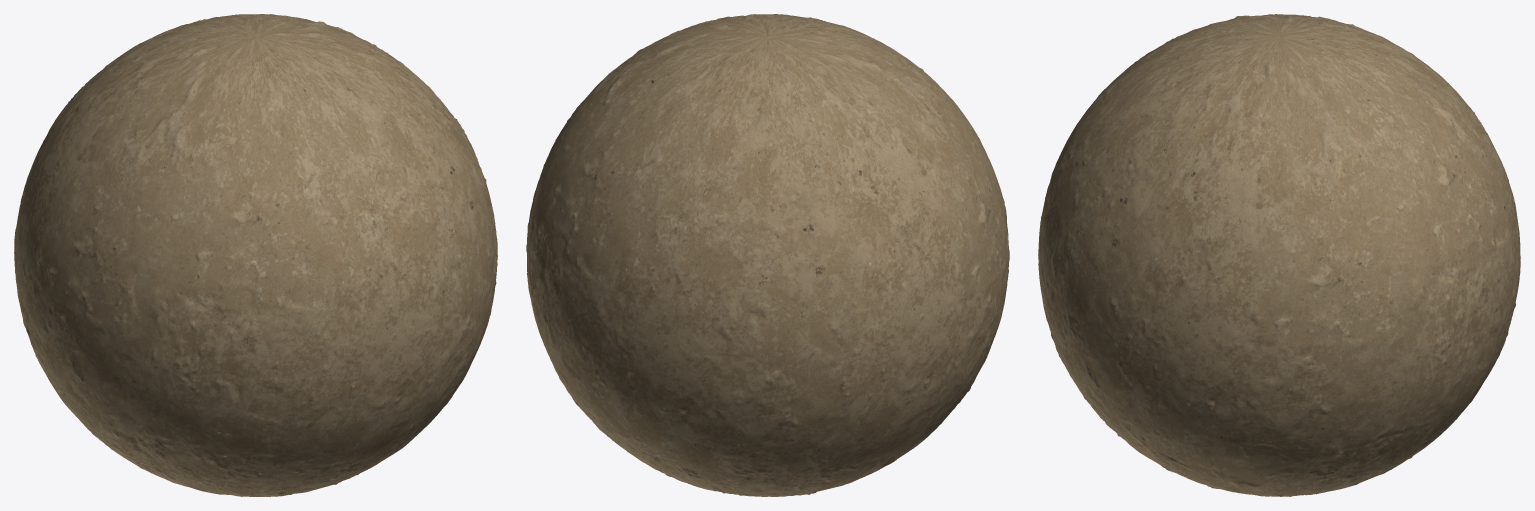
The model's file is dense_sand_2k.gltf.
3 renders of one model, left to right at view 1: azimuth 30°, elevation 25°; view 2: azimuth 150°, elevation 25°; view 3: azimuth 270°, elevation 25°, orthographic.
Parts seen in each view (by area): view 1: sphere_gltf; view 2: sphere_gltf; view 3: sphere_gltf.
Boxes of the visible parts, x1,y1,x2,y2 form: sphere_gltf: [14, 14, 497, 496]; sphere_gltf: [526, 14, 1009, 496]; sphere_gltf: [1038, 14, 1520, 496].
Bounding box in the file's own units: 1.81 × 1.8 × 1.8.
Materials: 1 (1 with a texture image).
